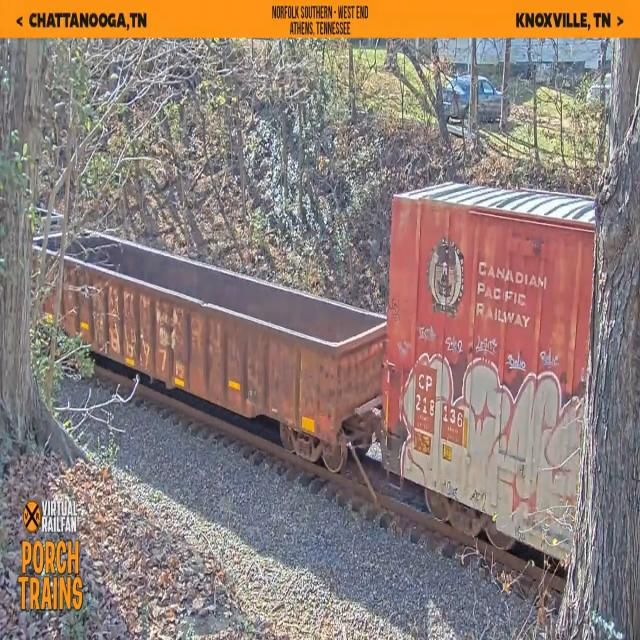boxcar: (384, 162, 584, 580)
gondola: (36, 220, 382, 482)
